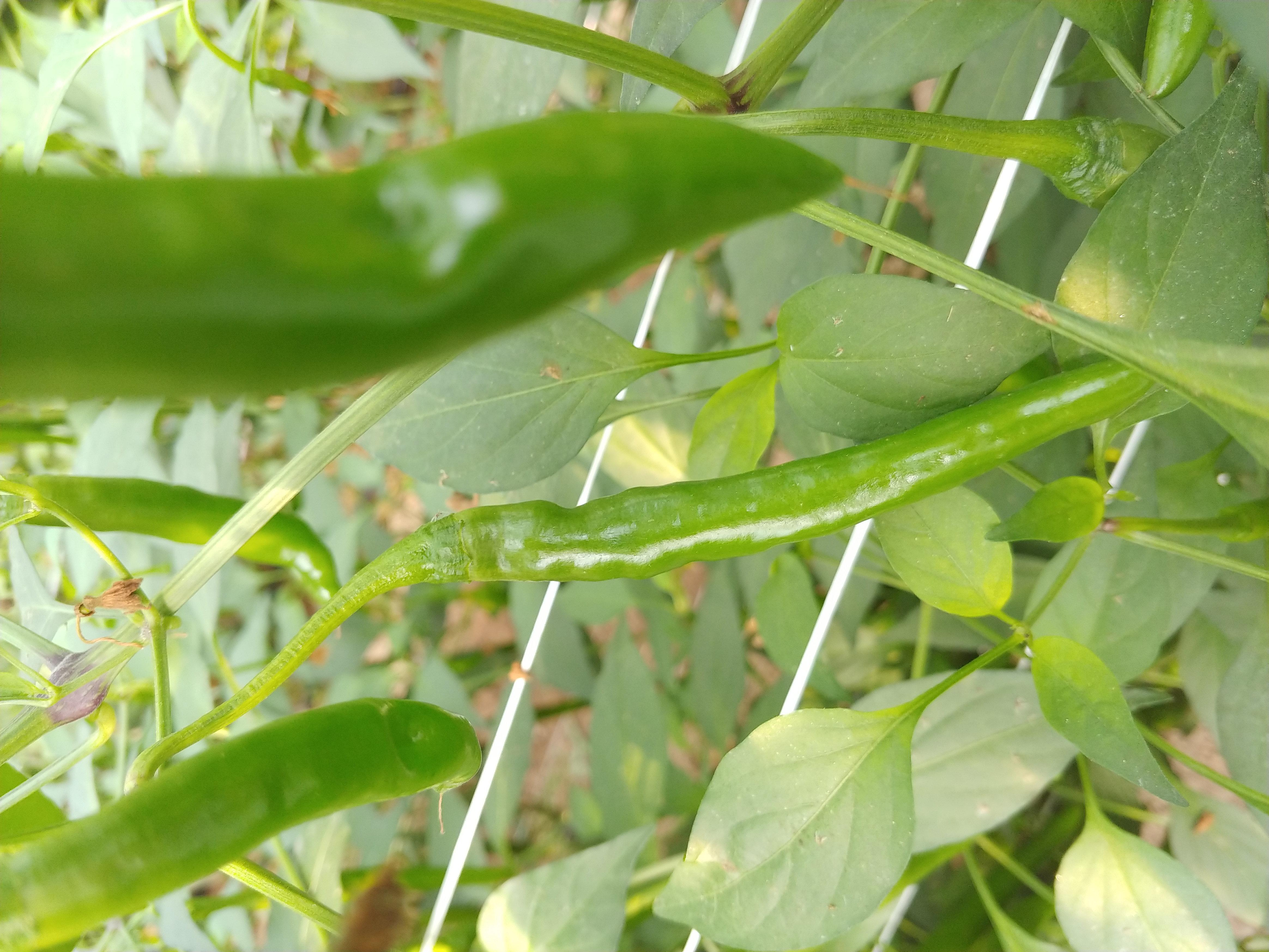Buah Cabai Sehat: (0, 96, 849, 406), (372, 351, 1156, 591), (0, 696, 493, 952), (0, 459, 343, 609)
Daun Cabai Sehat: (657, 688, 935, 952)
